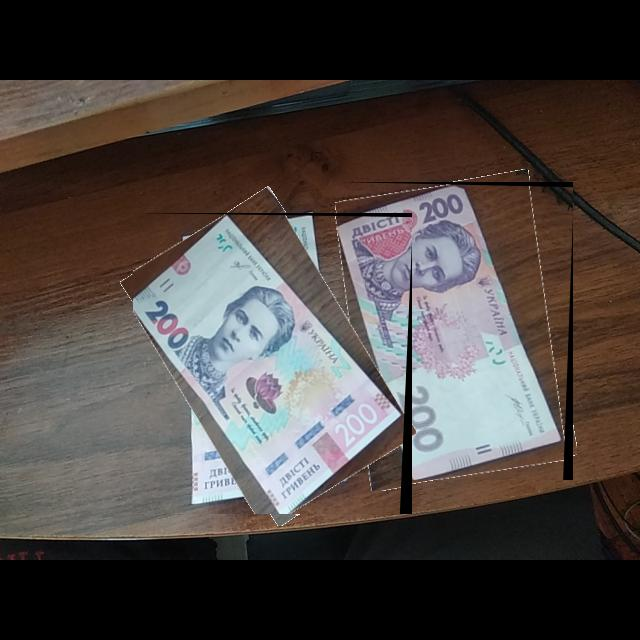200uah: (133, 214, 407, 515), (339, 184, 567, 481)
